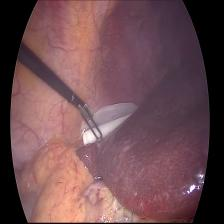Grasper: (76, 99, 106, 142)
Specimen Bag: (80, 98, 138, 147)
